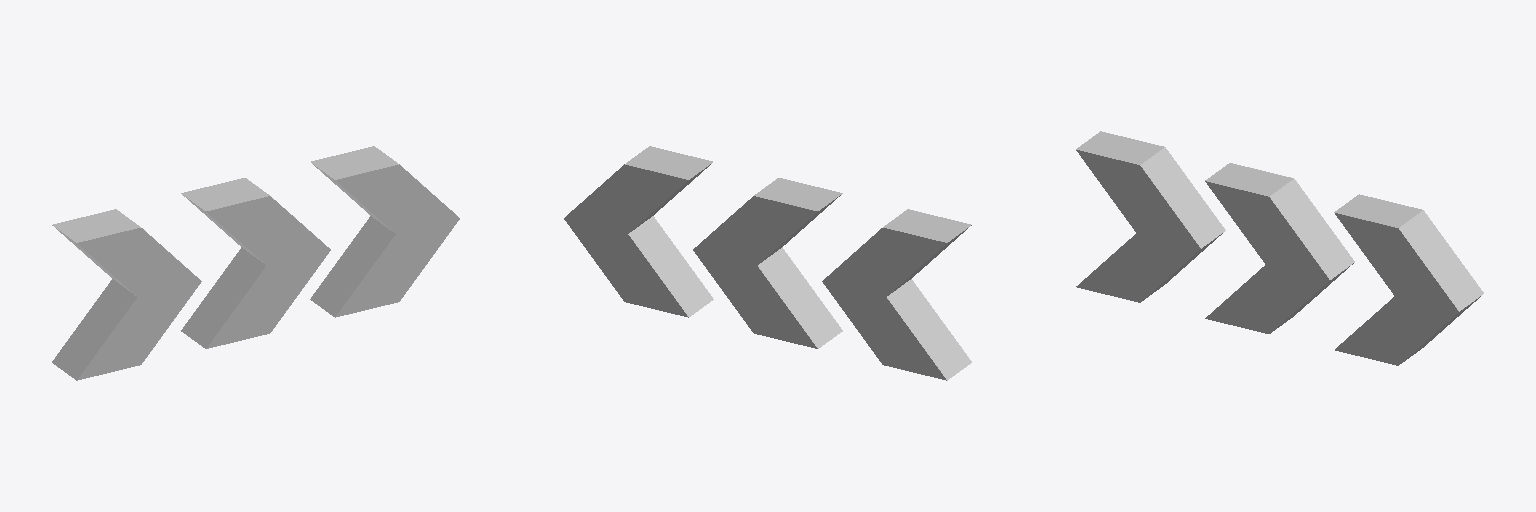
Rendered from Arrow_70.obj.
3 renders of one model, left to right at view 1: azimuth 30°, elevation 25°; view 2: azimuth 150°, elevation 25°; view 3: azimuth 330°, elevation 25°, orthographic.
Parts seen in each view (by area): view 1: Arrow_70; view 2: Arrow_70; view 3: Arrow_70.
Part boxes in pixels (x1,y1,x2,y2): Arrow_70: (52,146,459,380); Arrow_70: (564,146,971,380); Arrow_70: (1076,131,1483,365).
Bounding box in the file's own units: 8.19 × 2.81 × 0.9272.